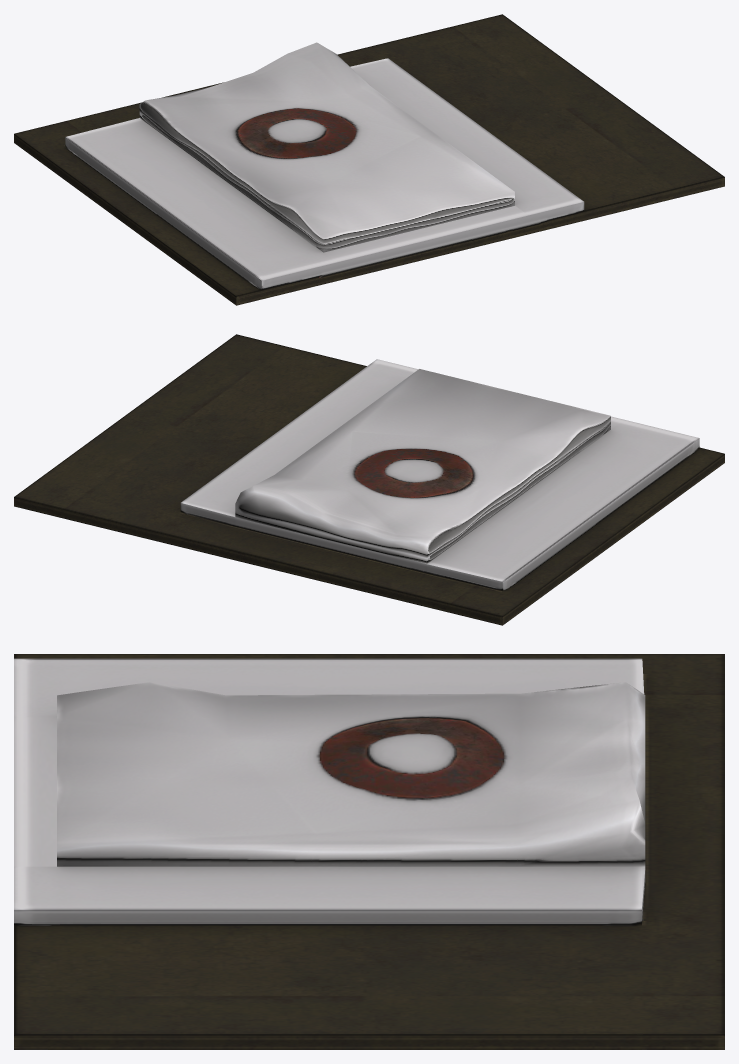
File: Napkin.FBX
3 renders of one model, top to bottom at view 1: azimuth 30°, elevation 25°; view 2: azimuth 150°, elevation 25°; view 3: azimuth 270°, elevation 25°, orthographic. The views are drawn at different scales.
Visible parts, largest first — view 1: Napkin; view 2: Napkin; view 3: Napkin.
Boxes of the visible parts, left/top/right/bottom form: Napkin: left=14, top=14, right=724, bottom=305; Napkin: left=14, top=334, right=724, bottom=625; Napkin: left=14, top=654, right=724, bottom=1049.
Bounding box in the file's own units: 38.11 × 30.04 × 3.93.
